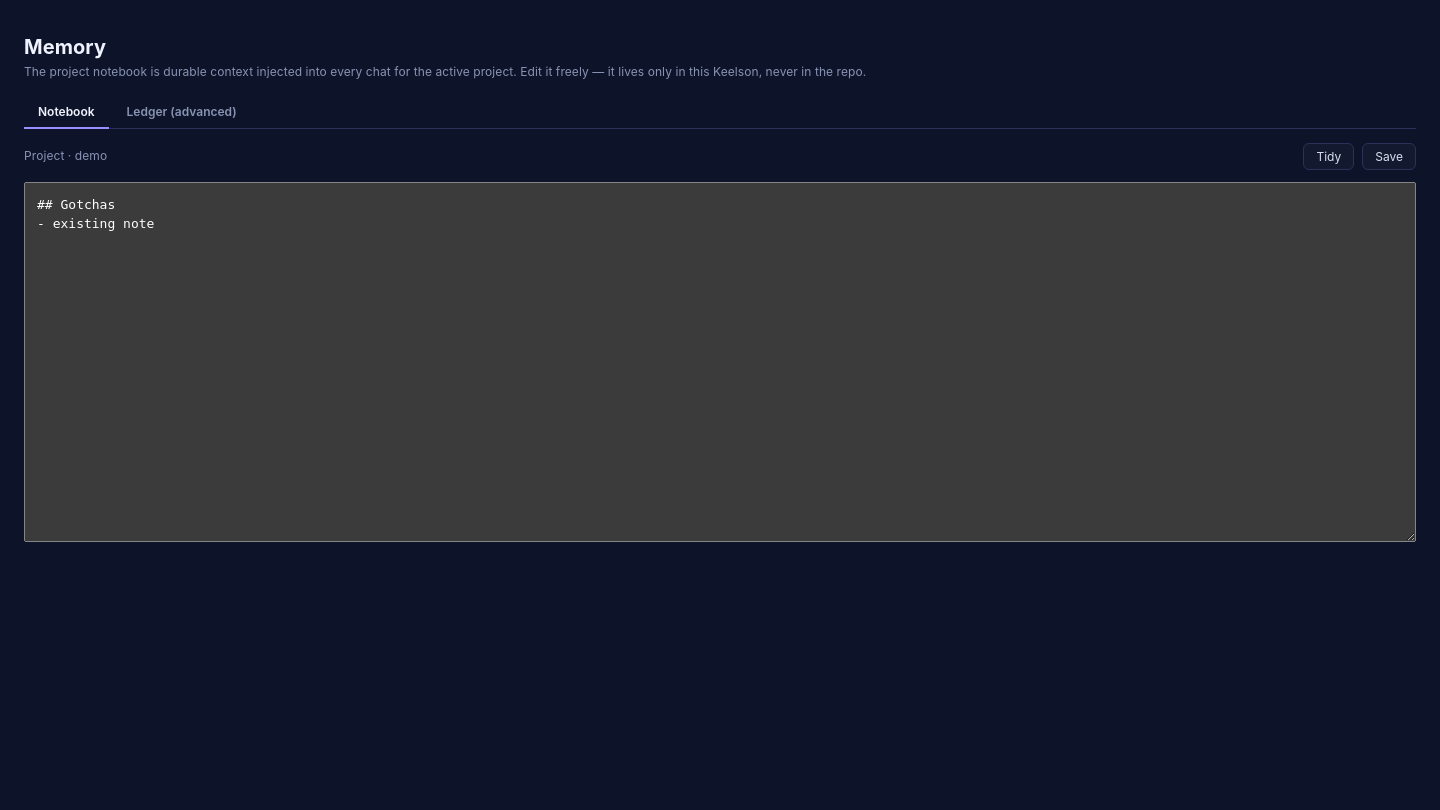
Test: Memory notebook panel › Tidy archives entries, shows a toast, and Undo restores previous content
Expected: the text box named "Project notebook" is shown, [24,182,1416,542]
Click the button "Tidy" at (1329, 156), box [1303,143,1354,170]
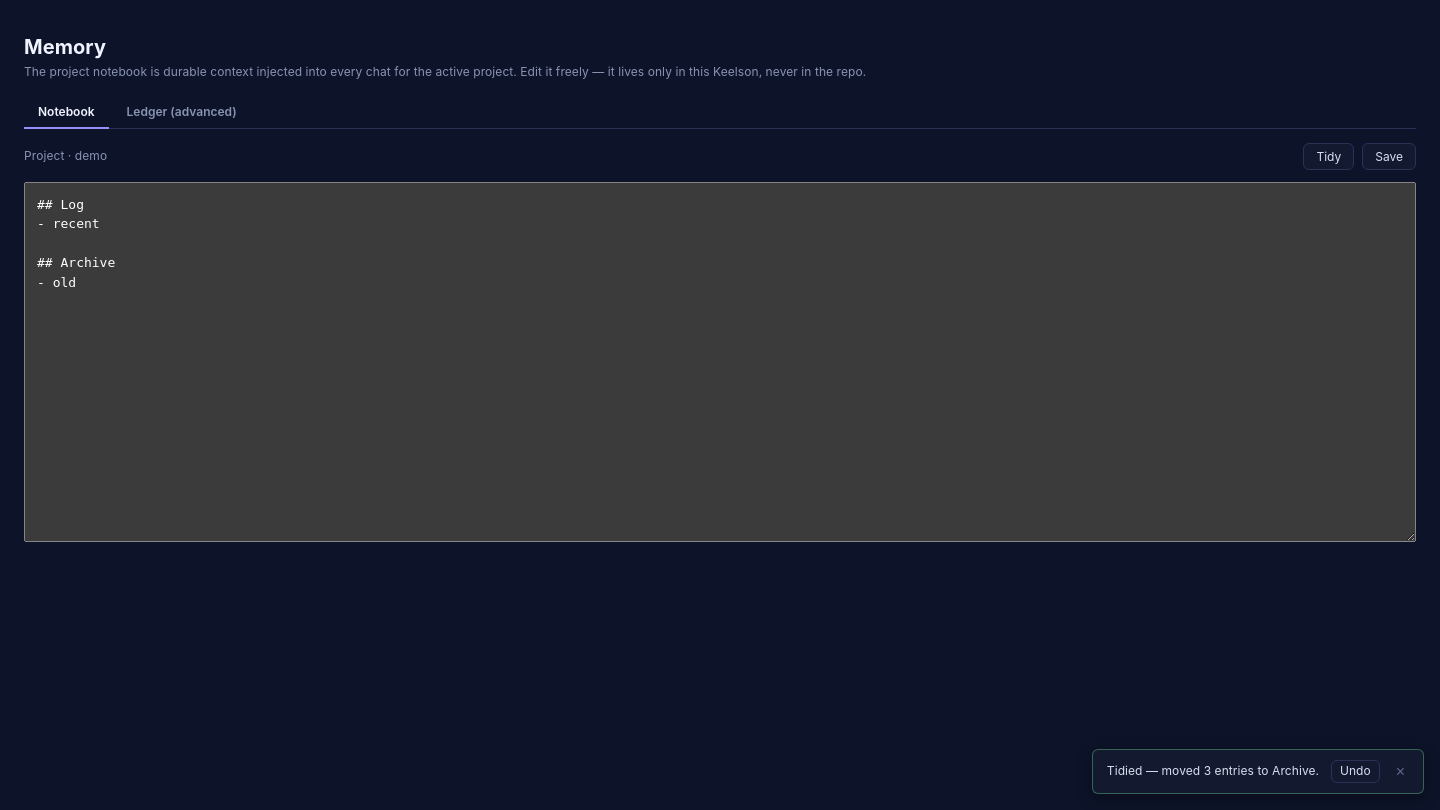
Expected: the text "Tidied — moved 3 entries to Archive." is shown, [1107,763,1319,780]
Click the button "Undo" at (1355, 772), box [1331,760,1380,783]
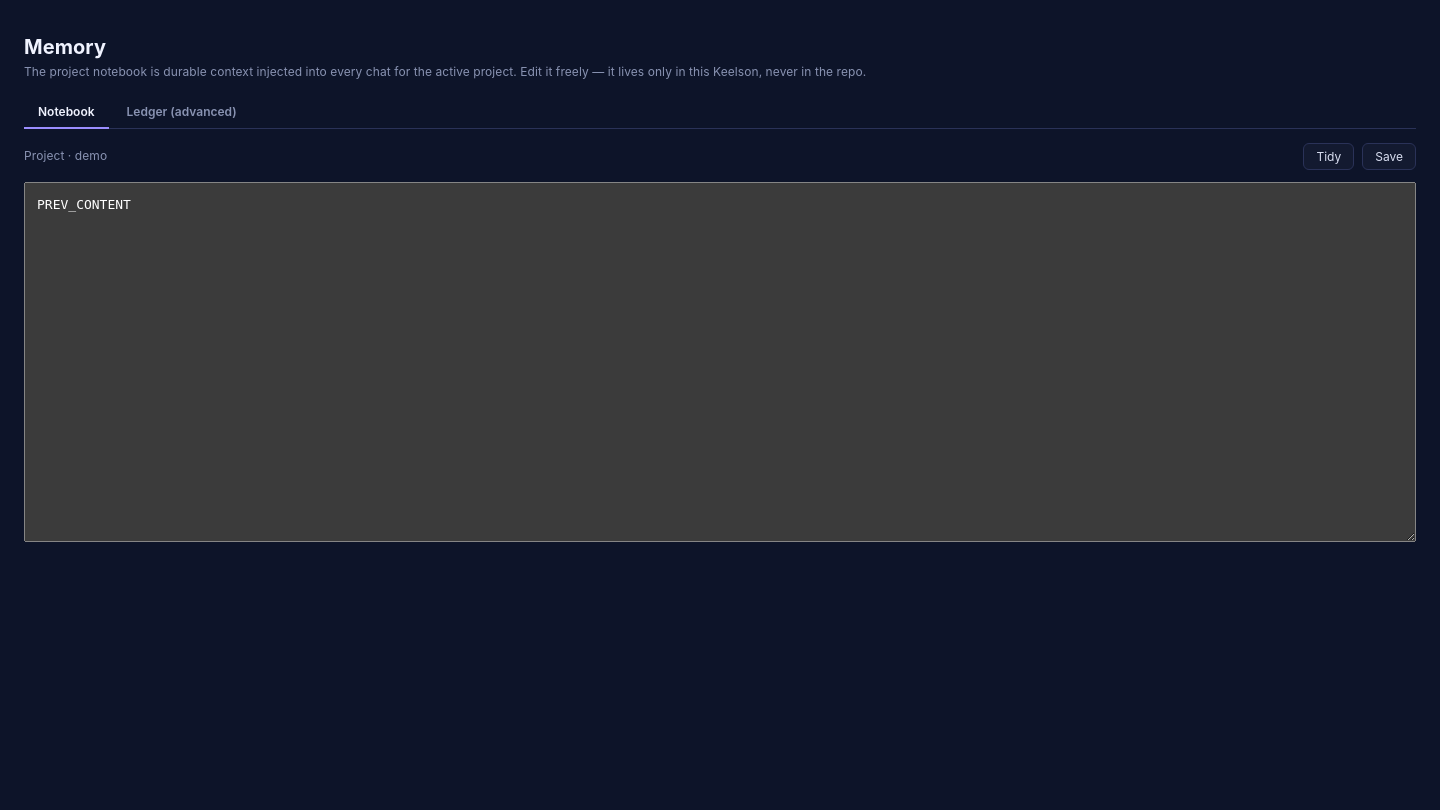
Expected: the text box named "Project notebook" holds "PREV_CONTENT", [24,182,1416,542]
